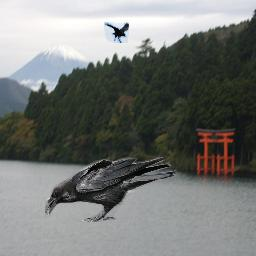Crow: (45, 157, 177, 222), (104, 22, 129, 43)
